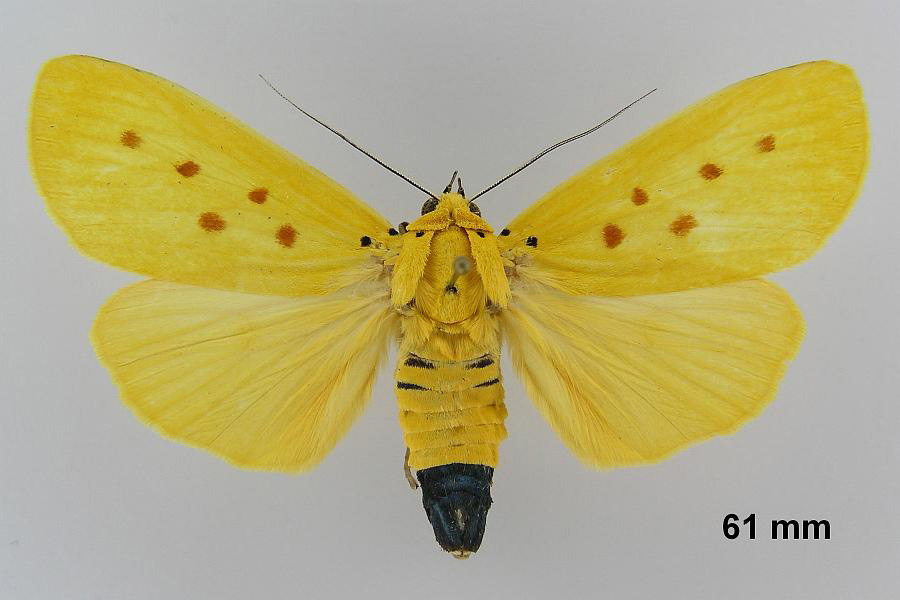Agape chloropyga: (18, 41, 873, 562)
moth: (20, 43, 875, 564)
